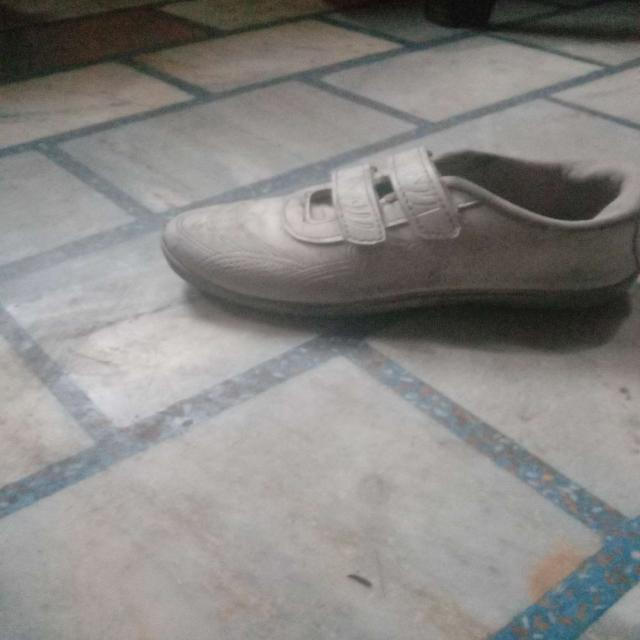shoe: (158, 143, 640, 317)
